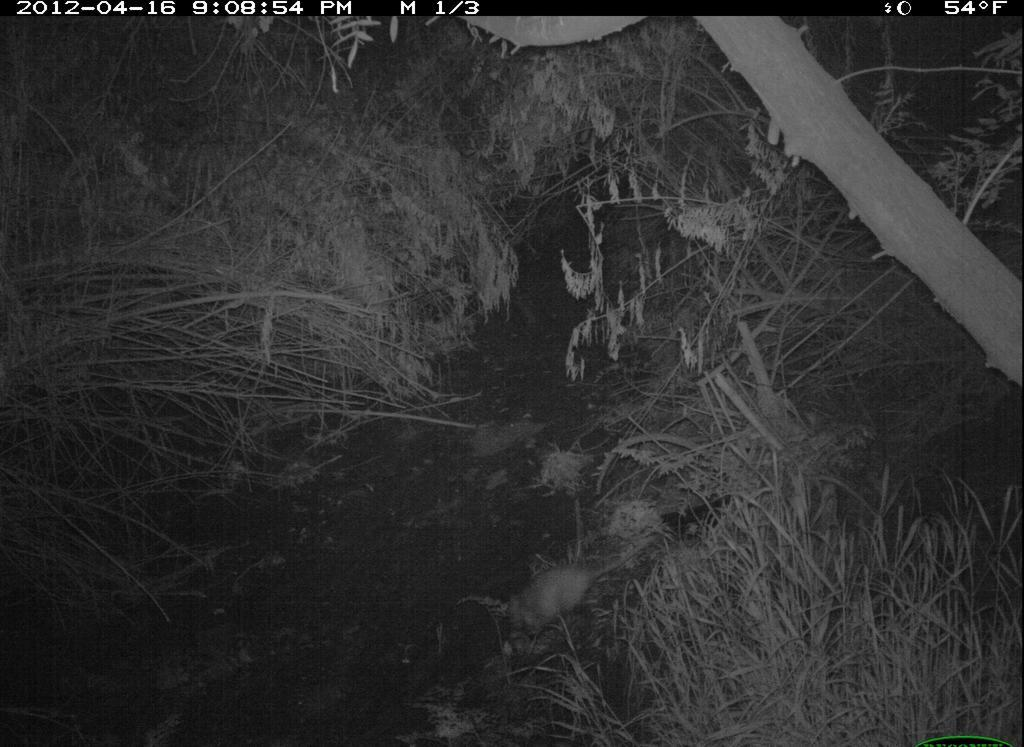opossum: (501, 523, 665, 646)
